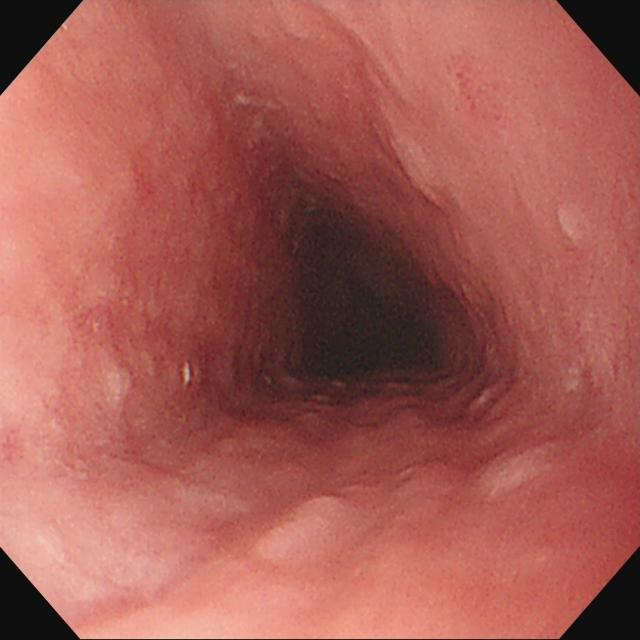E: (269, 203, 448, 396)
